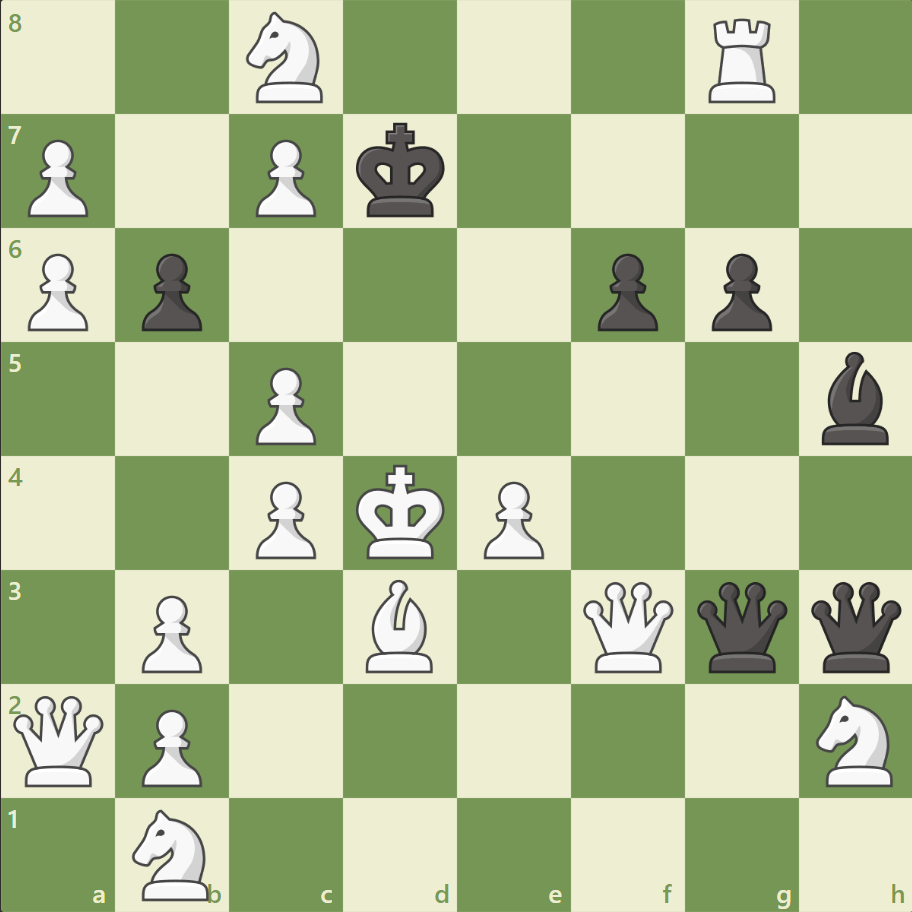B: (358, 574, 442, 676)
K: (351, 458, 451, 566)
N: (124, 802, 222, 904), (238, 7, 335, 110), (806, 688, 903, 791)
P: (20, 132, 95, 223), (247, 132, 322, 223), (20, 246, 95, 337), (247, 359, 322, 450), (247, 473, 322, 564), (474, 473, 549, 564), (133, 586, 208, 677), (133, 700, 208, 791)
Q: (578, 576, 677, 676), (10, 690, 109, 789)
R: (700, 12, 783, 109)
b: (812, 347, 896, 449)
k: (351, 117, 451, 225)
p: (133, 246, 208, 337), (701, 246, 776, 337), (588, 246, 662, 337)
q: (691, 576, 790, 676), (805, 576, 904, 676)
